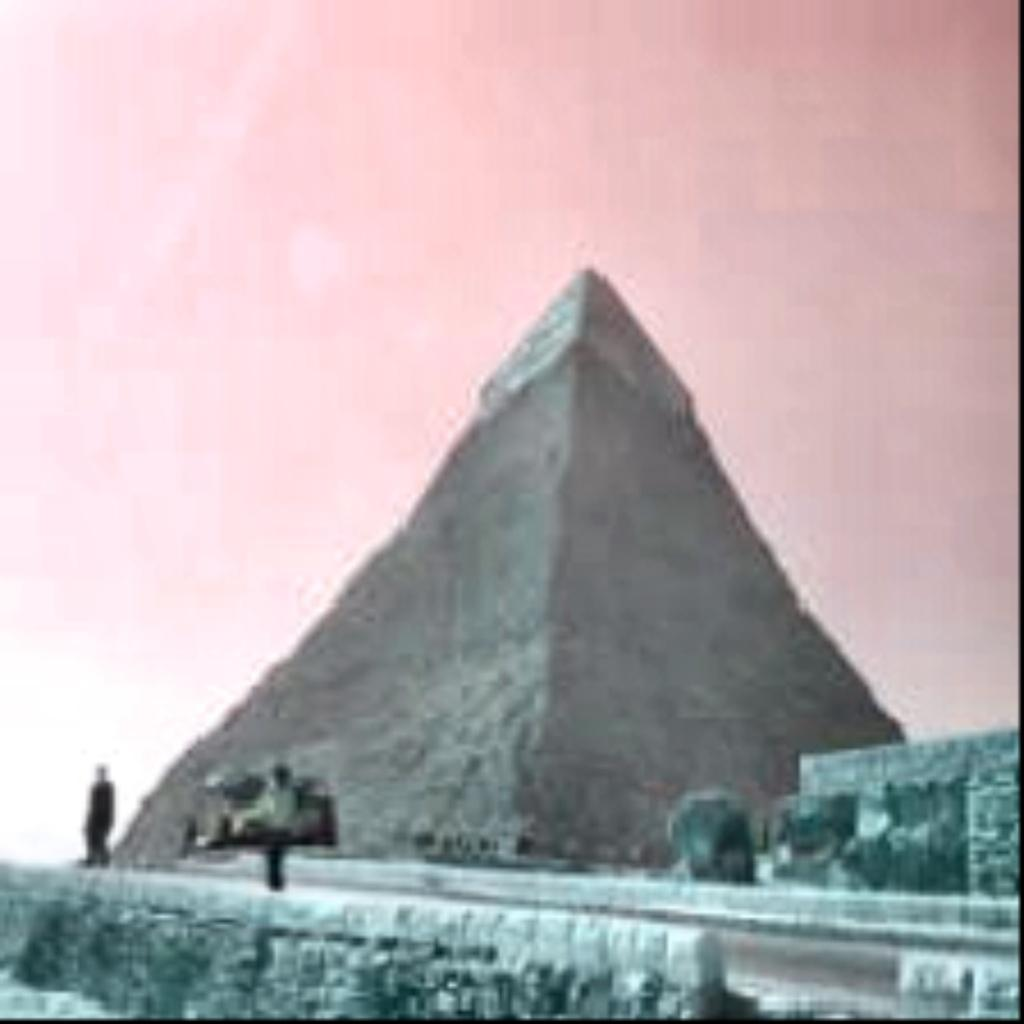Great Pyramids of Giza: (96, 260, 905, 874)
